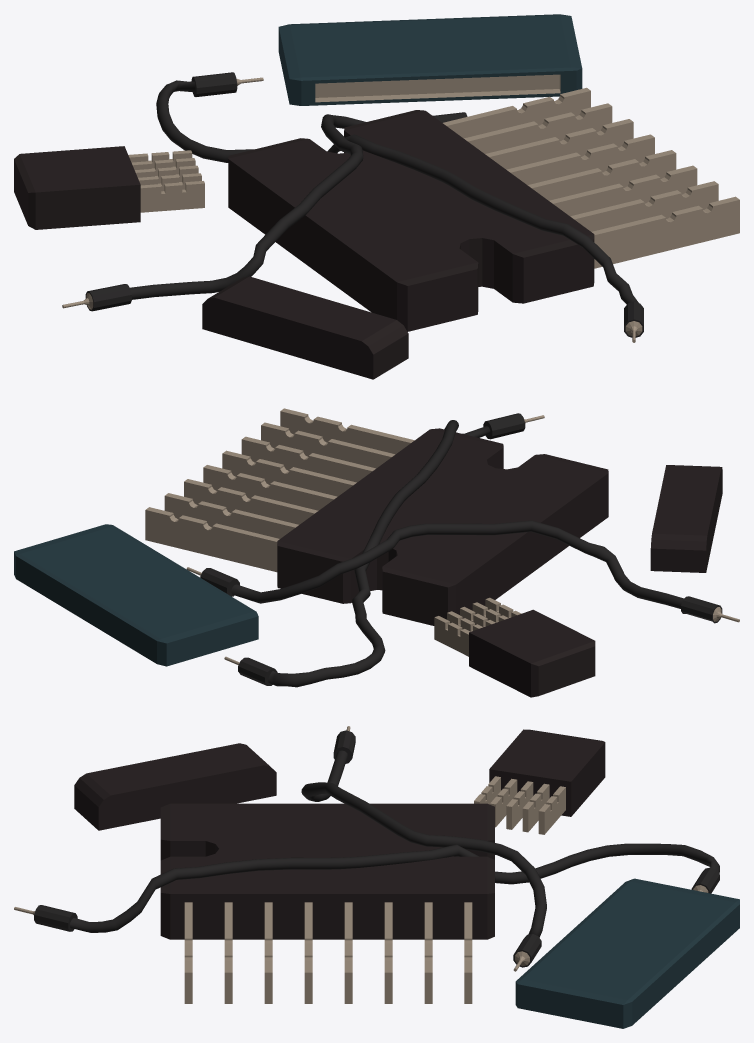
The model's file is elevator_parts001.fbx.
The picture shows the model from 3 angles, top to bottom: view 1: azimuth 30°, elevation 25°; view 2: azimuth 150°, elevation 25°; view 3: azimuth 270°, elevation 25°; orthographic projection. The views are drawn at different scales.
Visible parts, largest first — view 1: Cube, Cube.001, Cube.002, Cube.003, Cube.004, Cylinder.001, Cylinder.002; view 2: Cube, Cube.001, Cube.002, Cube.003, Cylinder.002, Cube.004, Cylinder.001; view 3: Cube, Cube.002, Cube.004, Cube.003, Cylinder.001, Cube.001, Cylinder.002.
Part boxes in pixels (box(x1,y1,x2,y2)): Cube: box(228, 110, 594, 331); Cube.001: box(443, 87, 739, 268); Cube.002: box(278, 14, 582, 105); Cube.003: box(14, 146, 204, 229); Cube.004: box(202, 276, 408, 379); Cylinder.001: box(156, 72, 643, 342); Cylinder.002: box(62, 112, 467, 311); Cube: box(277, 428, 608, 625); Cube.001: box(145, 408, 414, 572); Cube.002: box(14, 524, 258, 666); Cube.003: box(434, 597, 595, 697); Cylinder.002: box(186, 520, 739, 623); Cube.004: box(650, 465, 722, 572); Cylinder.001: box(224, 413, 544, 687); Cube: box(160, 803, 494, 939); Cube.002: box(515, 878, 739, 1028); Cube.004: box(74, 743, 276, 830); Cube.003: box(474, 729, 605, 834); Cylinder.001: box(14, 843, 719, 932); Cube.001: box(184, 902, 472, 1003); Cylinder.002: box(301, 726, 546, 971).
Bounding box in the file's own units: 36.1 × 3.37 × 36.9.
